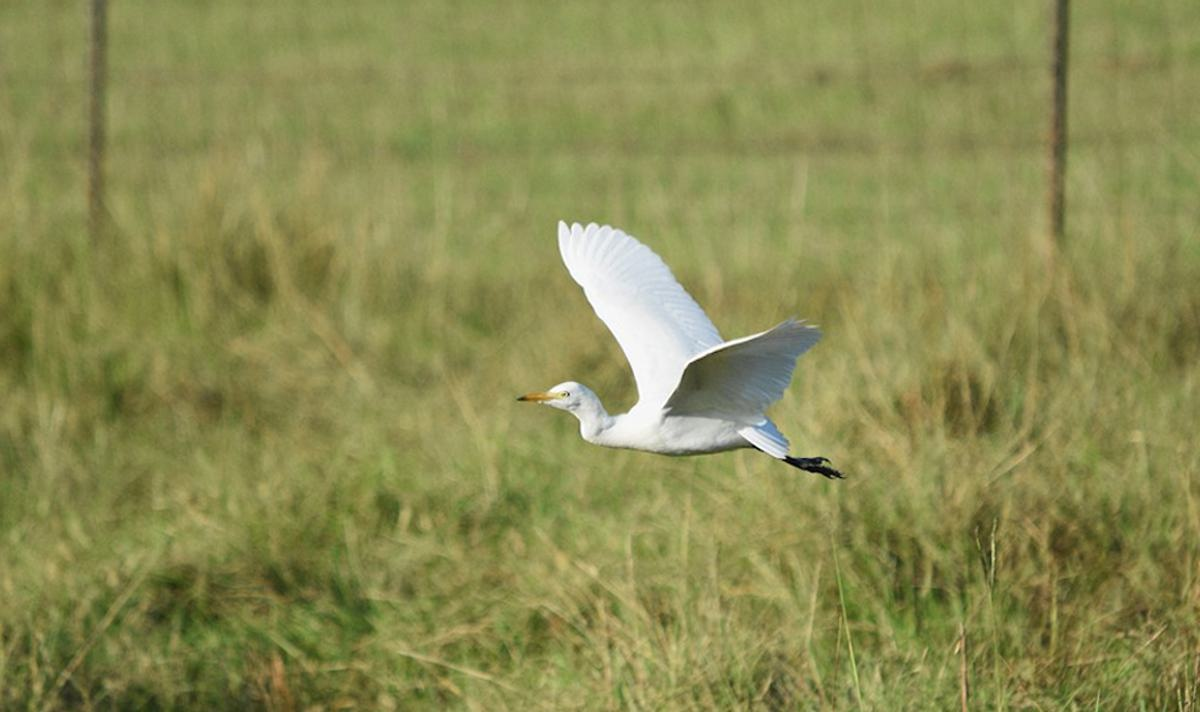egret: (502, 197, 858, 488)
